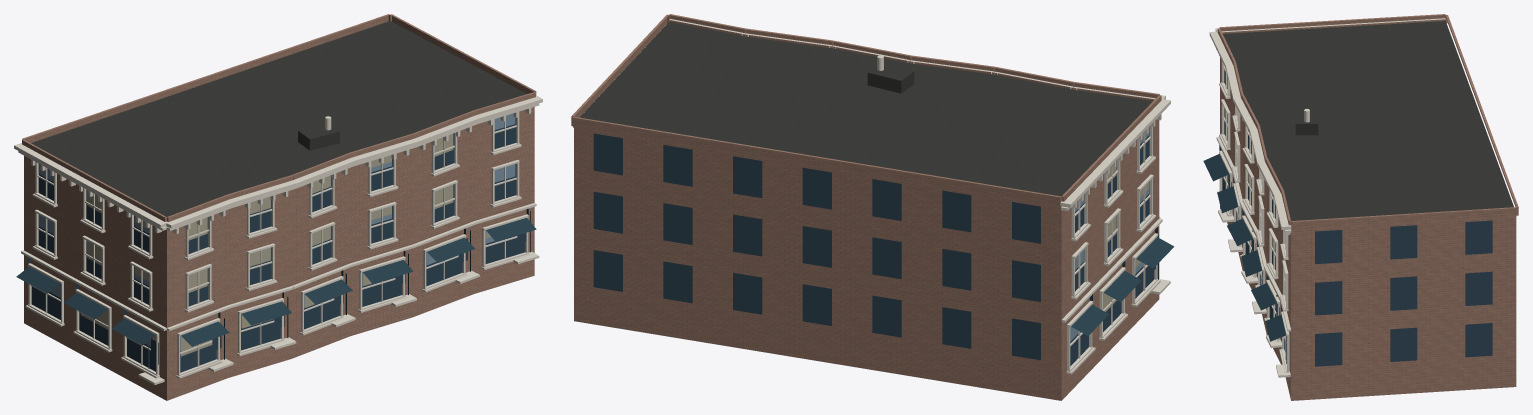
The picture shows the model from 3 angles, left to right: view 1: azimuth 30°, elevation 25°; view 2: azimuth 150°, elevation 25°; view 3: azimuth 270°, elevation 25°; orthographic projection. The views are drawn at different scales.
Parts seen in each view (by area): view 1: Footprint 0 / surface 2, Footprint 0 / surface 1, Cornices and window frames, Inset glazing, Facade bay volumes, Storefronts and doors, Interior blind variation, Sky reflection panels; view 2: Footprint 0 / surface 2, Footprint 0 / surface 1, Inset glazing, Facade bay volumes, Cornices and window frames, Storefronts and doors; view 3: Footprint 0 / surface 1, Footprint 0 / surface 2, Inset glazing, Cornices and window frames, Facade bay volumes, Storefronts and doors, Inferred rooftop service enclosure / surface 1.
Boxes of the visible parts, box(x1,y1,x2,y2) form: Footprint 0 / surface 2: box(24, 107, 534, 400); Footprint 0 / surface 1: box(31, 21, 526, 216); Cornices and window frames: box(14, 95, 542, 384); Inset glazing: box(31, 117, 526, 372); Facade bay volumes: box(22, 14, 536, 221); Storefronts and doors: box(16, 208, 536, 368); Interior blind variation: box(80, 133, 490, 356); Sky reflection panels: box(39, 113, 515, 349); Footprint 0 / surface 2: box(574, 119, 1159, 400); Footprint 0 / surface 1: box(579, 22, 1152, 196); Inset glazing: box(593, 126, 1155, 365); Facade bay volumes: box(571, 14, 1161, 207); Cornices and window frames: box(669, 19, 1170, 374); Storefronts and doors: box(1071, 227, 1174, 335); Footprint 0 / surface 1: box(1223, 21, 1513, 220); Footprint 0 / surface 2: box(1220, 57, 1516, 400); Inset glazing: box(1222, 70, 1492, 366); Cornices and window frames: box(1209, 18, 1445, 377); Facade bay volumes: box(1217, 14, 1518, 230); Storefronts and doors: box(1203, 145, 1286, 363); Inferred rooftop service enclosure / surface 1: box(1295, 124, 1318, 135).
Size of the model in its own units: 26.79 by 11.39 by 16.57.
